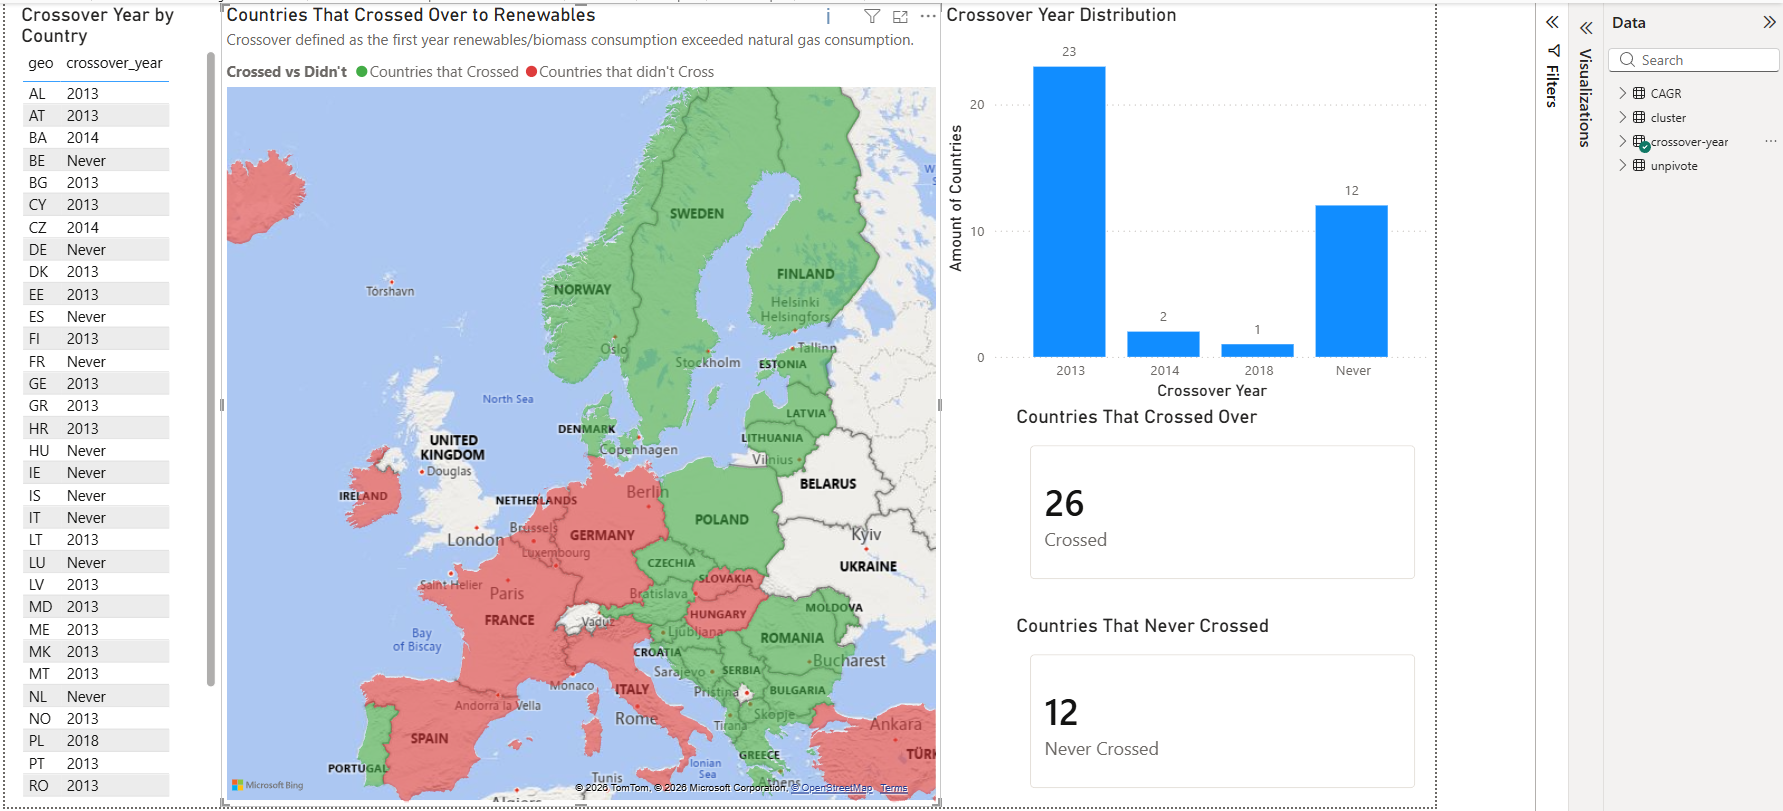

Layout of this report page (visuals, bound fields, positions):
{"tool":"powerbi","page":{"name":"Renewables Crossover","canvas":[1280,720],"ordinal":5},"visuals":[{"type":"tableEx","title":"Crossover Year by Country","fields":{"Values":["crossover-year.geo","crossover-year.crossover_year"]},"box":[9.7,0,183.8,719.8],"z":0},{"type":"columnChart","title":"Crossover Year Distribution","fields":{"Category":["crossover-year.crossover_year"],"Y":["CountNonNull(crossover-year.geo)"]},"box":[838.4,0,441.6,359.9],"z":1000},{"type":"cardVisual","title":"Countries That Crossed Over","fields":{"Data":["crossover-year.Crossed"]},"box":[900.7,360.1,379.3,173.1],"z":2000},{"type":"cardVisual","title":"Countries That Never Crossed","fields":{"Data":["crossover-year.Never Crossed"]},"box":[900.7,546.9,379.3,173.1],"z":3000},{"type":"filledMap","title":"Countries That Crossed Over to Renewables","fields":{"Category":["crossover-year.geo"],"Series":["crossover-year.Crossed vs Didnt"]},"box":[193.6,0,644.9,719.8],"z":4000}]}

Visuals, with their boxes on the page's 1280x720 design canvas (x1, y1, x2, y2). These are canvas units, not pixel positions in the 1783x811 screenshot, which may show the page scaled, cropped or inside an application window:
"Crossover Year by Country" tableEx: (left=10, top=0, right=194, bottom=720)
"Crossover Year Distribution" columnChart: (left=838, top=0, right=1280, bottom=360)
"Countries That Crossed Over" cardVisual: (left=901, top=360, right=1280, bottom=533)
"Countries That Never Crossed" cardVisual: (left=901, top=547, right=1280, bottom=720)
"Countries That Crossed Over to Renewables" filledMap: (left=194, top=0, right=838, bottom=720)
